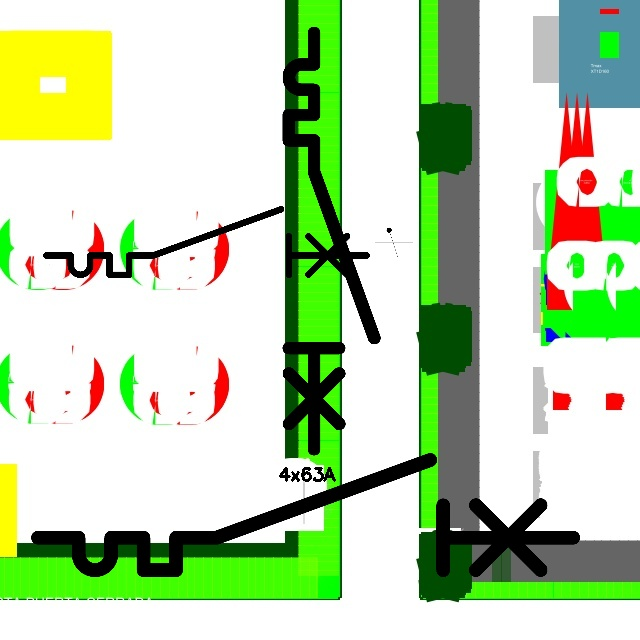interruptor_termomagnetico: (24, 446, 586, 584), (278, 22, 385, 460), (38, 201, 375, 283)
